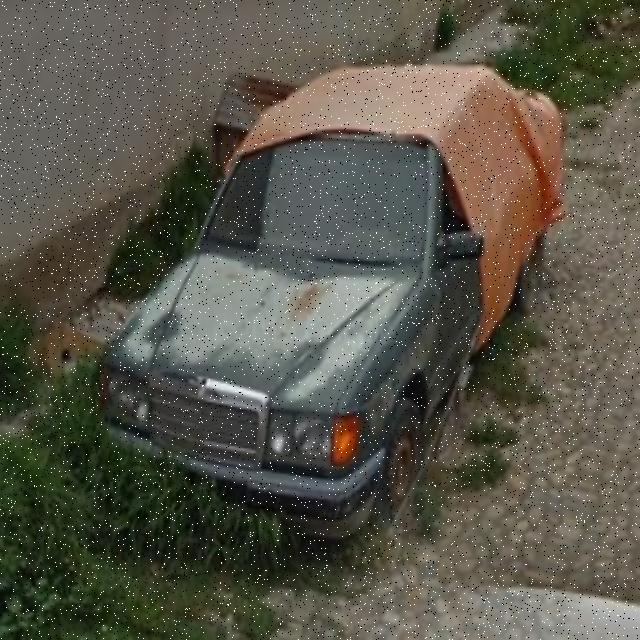cars: (113, 76, 548, 561)
